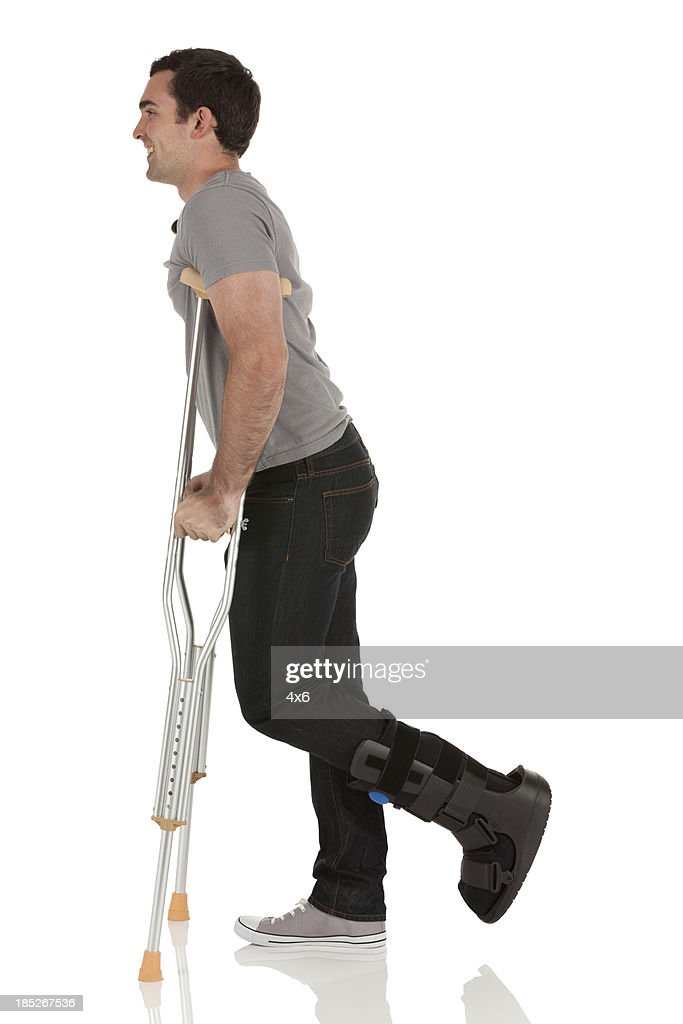crutches: (129, 48, 554, 982)
